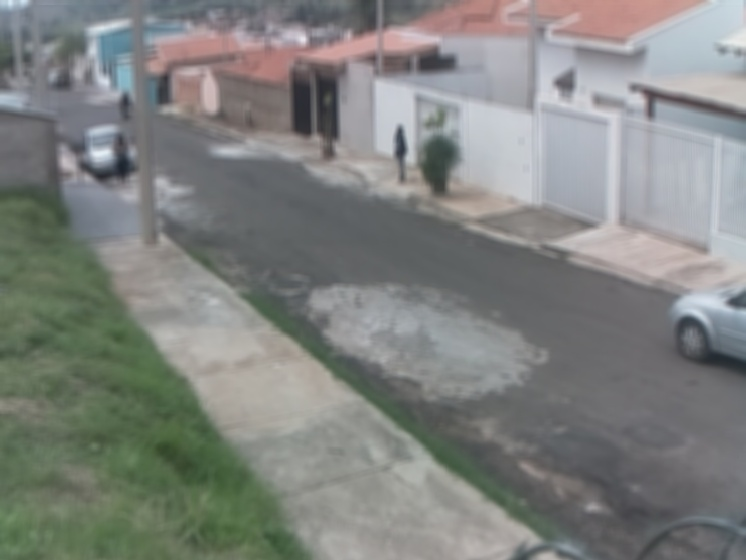person: (111, 131, 132, 187), (393, 124, 407, 184), (116, 88, 135, 118)
